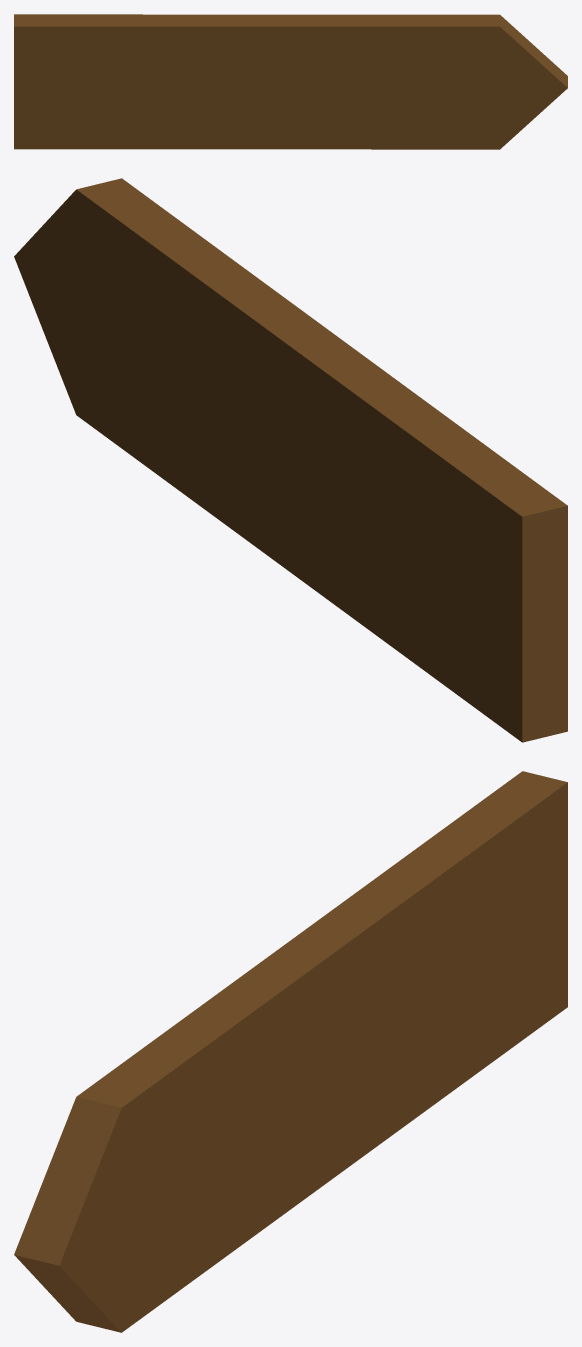
The model's file is Sign 1.fbx.
The picture shows the model from 3 angles, top to bottom: view 1: azimuth 30°, elevation 25°; view 2: azimuth 150°, elevation 25°; view 3: azimuth 270°, elevation 25°; orthographic projection. The views are drawn at different scales.
Visible parts, largest first — view 1: Sign_1; view 2: Sign_1; view 3: Sign_1.
Boxes of the visible parts, x1=… form: Sign_1: x1=14, y1=14, x2=567, y2=149; Sign_1: x1=14, y1=178, x2=567, y2=742; Sign_1: x1=14, y1=771, x2=567, y2=1332.
Size of the model in its own units: 75.05 by 20.59 by 45.96.
Materials: 1 (1 with a texture image).
